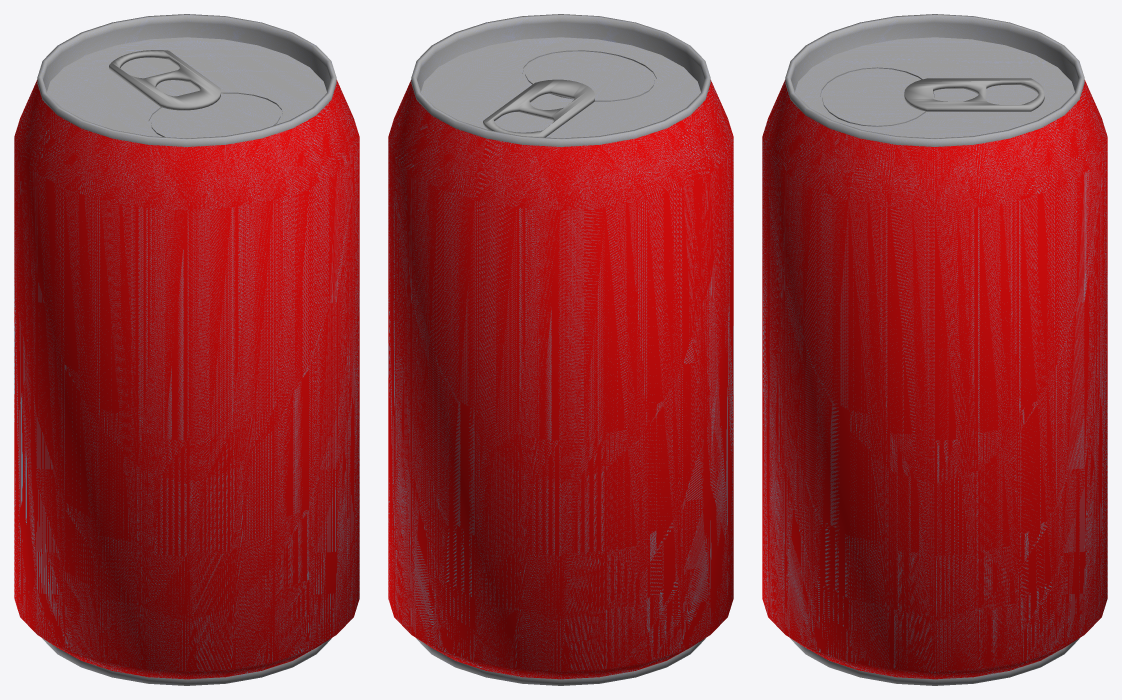
File: sodacan.dae
3 views of the same model, side by side, from view 1: azimuth 30°, elevation 25°; view 2: azimuth 150°, elevation 25°; view 3: azimuth 270°, elevation 25° (orthographic).
Visible parts, largest first — view 1: SketchUp (×5), group_0; view 2: SketchUp (×5), group_0; view 3: SketchUp (×5), group_0.
Boxes of the visible parts, left/top/right/bottom form: SketchUp (×5): left=14, top=14, right=359, bottom=685; group_0: left=109, top=50, right=220, bottom=110; SketchUp (×5): left=388, top=14, right=733, bottom=685; group_0: left=483, top=79, right=594, bottom=137; SketchUp (×5): left=762, top=14, right=1107, bottom=685; group_0: left=904, top=78, right=1044, bottom=111.
Size of the model in its own units: 2.5 by 2.5 by 4.36.
